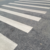others: (1, 1, 32, 45)
